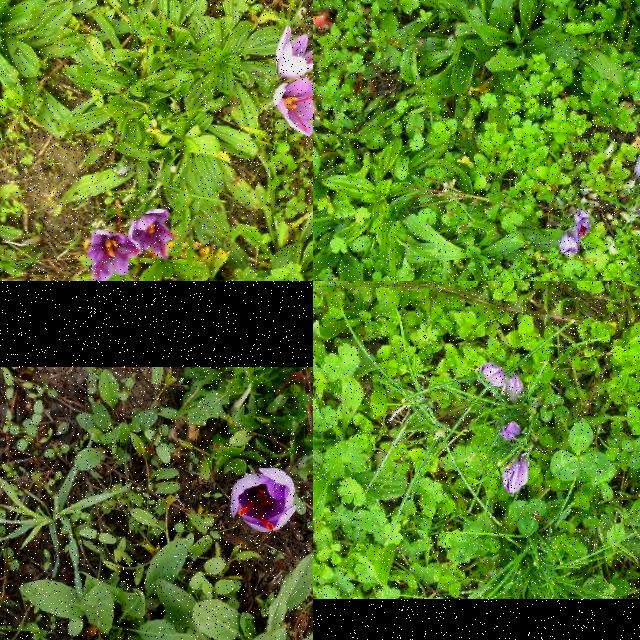flower: (230, 466, 298, 532), (88, 230, 141, 281), (128, 210, 178, 262), (273, 78, 313, 138), (277, 26, 313, 78), (499, 457, 528, 495), (478, 363, 507, 387), (506, 375, 526, 401), (560, 237, 580, 257), (500, 423, 522, 441), (576, 210, 590, 238)
